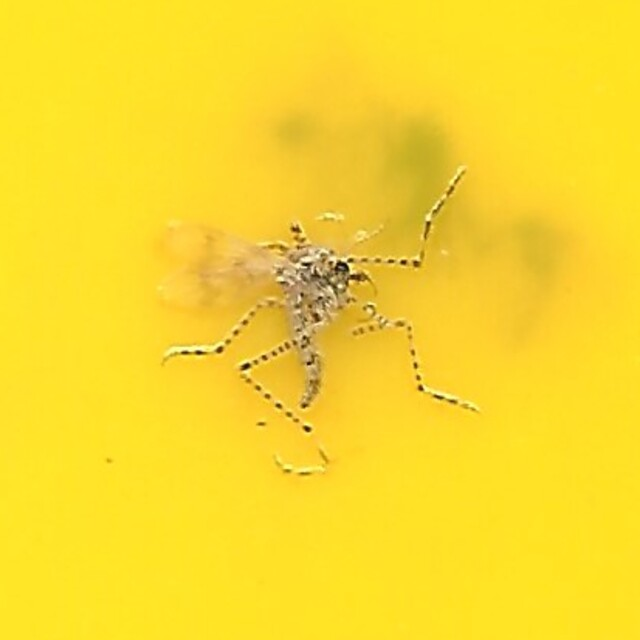Nematocera: (155, 168, 485, 472)
